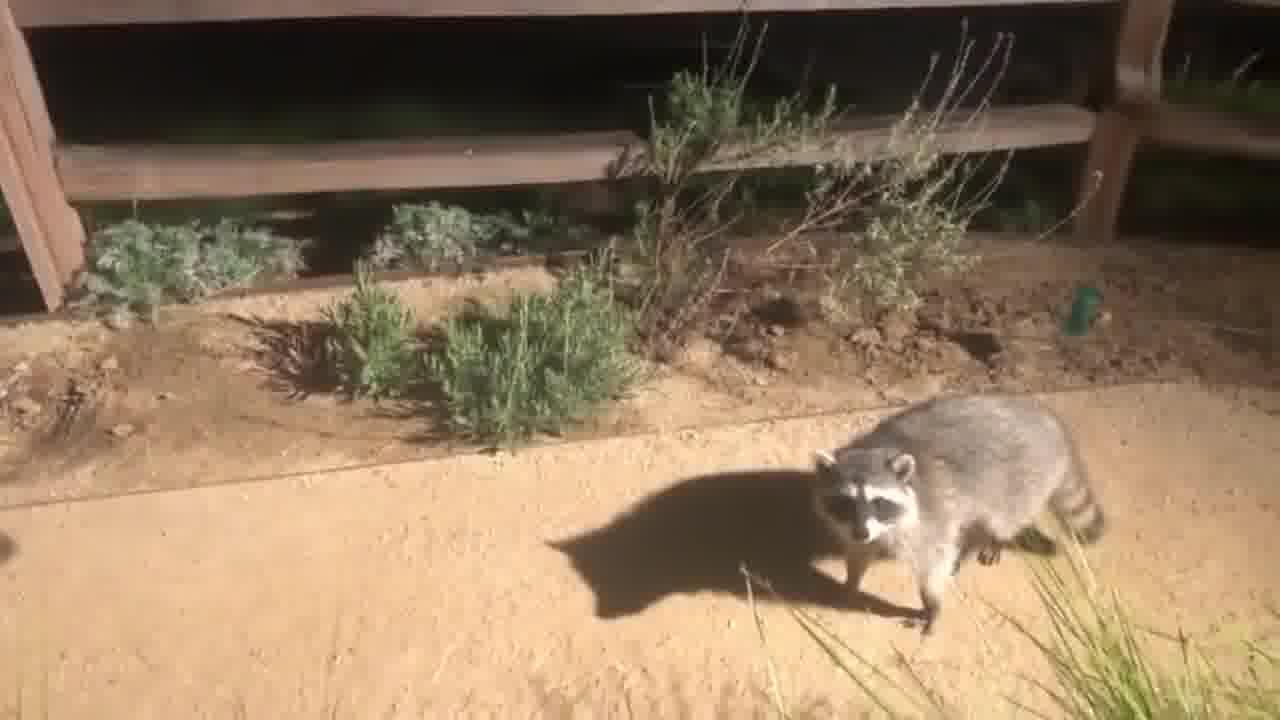raccoon: (812, 384, 1107, 635)
